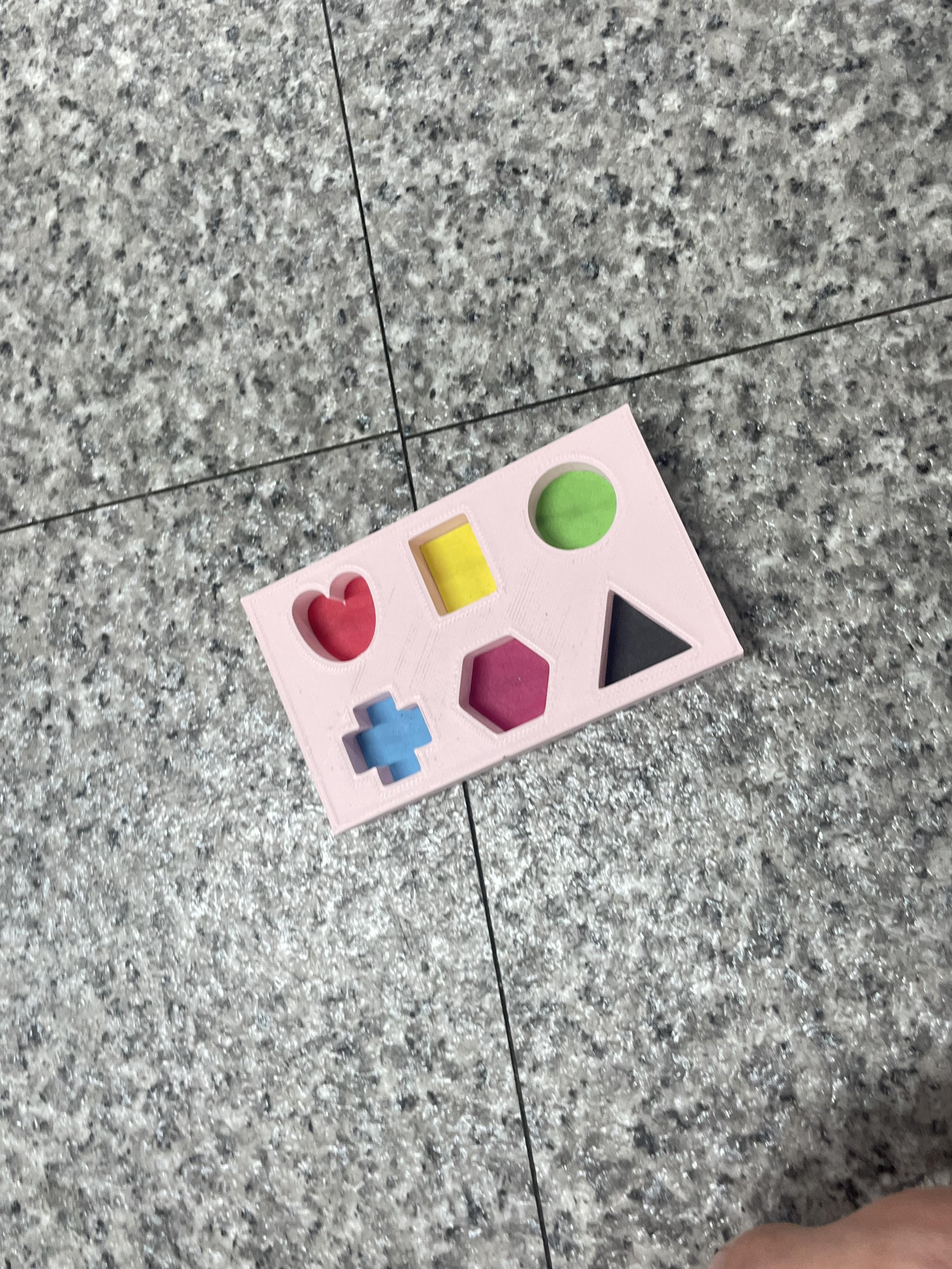unsolved: (217, 372, 783, 855)
